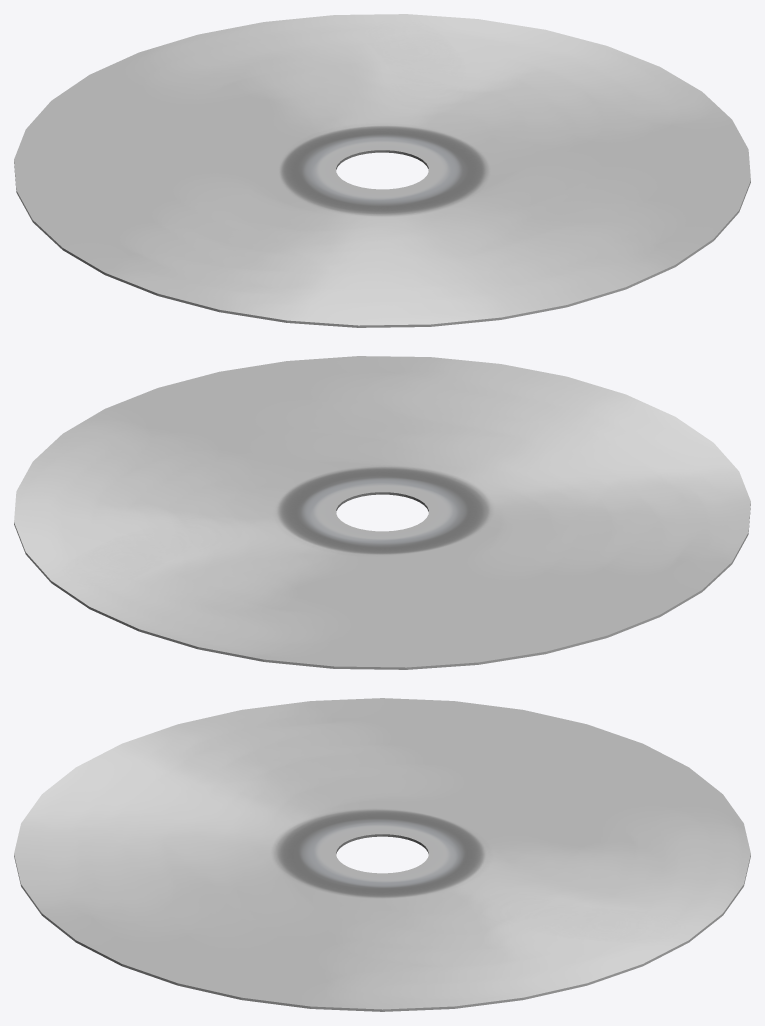
The model's file is music_dance.fbx.
3 renders of one model, top to bottom at view 1: azimuth 30°, elevation 25°; view 2: azimuth 150°, elevation 25°; view 3: azimuth 270°, elevation 25°, orthographic.
Parts seen in each view (by area): view 1: Cube; view 2: Cube; view 3: Cube.
Boxes of the visible parts, x1,y1,x2,y2 form: Cube: (14, 14, 750, 327); Cube: (14, 356, 750, 669); Cube: (14, 698, 750, 1011).
Size of the model in its own units: 200 by 0.7236 by 200.
1 material, 1 textured.
